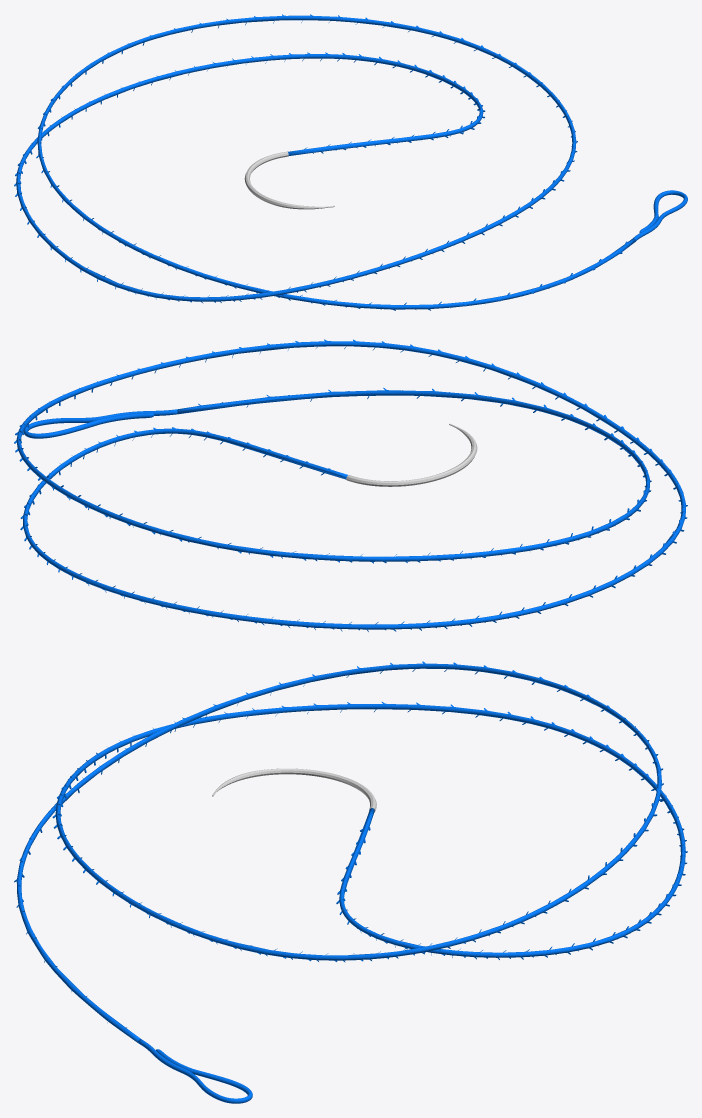
File: V-Loc_v2_Suture_04.glb
3 views of the same model, one above another, from view 1: azimuth 30°, elevation 25°; view 2: azimuth 150°, elevation 25°; view 3: azimuth 270°, elevation 25° (orthographic). The views are drawn at different scales.
Parts seen in each view (by area): view 1: Vloc_Suture_Loop_Geo, Vloc_Suture_Tip_Geo, Vloc_Suture_Loop_Geo.001; view 2: Vloc_Suture_Loop_Geo, Vloc_Suture_Loop_Geo.001, Vloc_Suture_Tip_Geo; view 3: Vloc_Suture_Loop_Geo, Vloc_Suture_Loop_Geo.001, Vloc_Suture_Tip_Geo.
Part boxes in pixels (x1=…): Vloc_Suture_Loop_Geo: x1=14, y1=14, x2=635, y2=310; Vloc_Suture_Tip_Geo: x1=244, y1=151, x2=334, y2=209; Vloc_Suture_Loop_Geo.001: x1=633, y1=190, x2=687, y2=241; Vloc_Suture_Loop_Geo: x1=14, y1=339, x2=687, y2=631; Vloc_Suture_Loop_Geo.001: x1=23, y1=409, x2=177, y2=438; Vloc_Suture_Tip_Geo: x1=346, y1=423, x2=477, y2=486; Vloc_Suture_Loop_Geo: x1=14, y1=661, x2=687, y2=1042; Vloc_Suture_Loop_Geo.001: x1=138, y1=1039, x2=252, y2=1103; Vloc_Suture_Tip_Geo: x1=212, y1=768, x2=376, y2=812.
Size of the model in its own units: 0.0542 by 0.0106 by 0.046.
